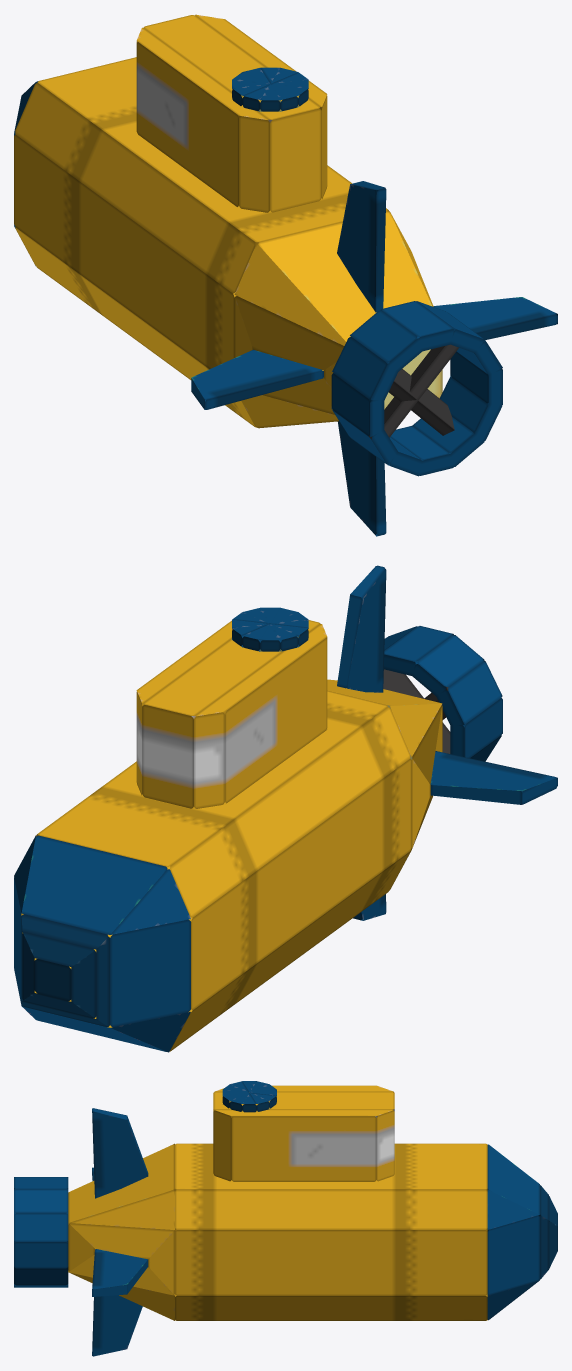
Rendered from Submarine.fbx.
The picture shows the model from 3 angles, top to bottom: view 1: azimuth 30°, elevation 25°; view 2: azimuth 150°, elevation 25°; view 3: azimuth 270°, elevation 25°; orthographic projection. The views are drawn at different scales.
Visible parts, largest first — view 1: beveled_cuboid, mesh, tube, cylinder, cube_1, cube; view 2: beveled_cuboid, mesh, tube, cylinder, cube_1; view 3: beveled_cuboid, mesh, tube, cylinder.
Boxes of the visible parts, x1,y1,x2,y2 form: beveled_cuboid: (14,57,557,536); mesh: (136,14,327,212); tube: (331,301,502,476); cylinder: (232,67,308,111); cube_1: (369,344,458,439); cube: (389,368,454,435); beveled_cuboid: (14,565,557,1052); mesh: (136,620,327,808); tube: (384,626,502,761); cylinder: (232,607,308,651); cube_1: (383,669,450,753); beveled_cuboid: (68,1108,557,1356); mesh: (213,1085,394,1181); tube: (14,1177,68,1287); cylinder: (222,1081,276,1112).
Size of the model in its own units: 199 by 200 by 375.
Materials: 1 (1 with a texture image).
